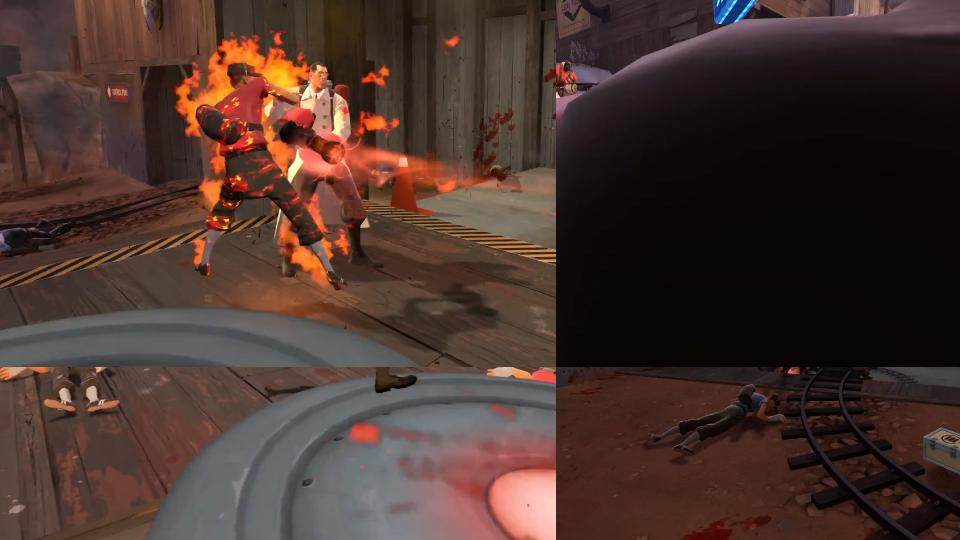Enemy: (192, 61, 352, 292), (267, 63, 383, 279), (647, 383, 788, 456), (0, 367, 122, 415), (0, 216, 75, 265), (488, 367, 556, 406), (556, 60, 600, 99)
